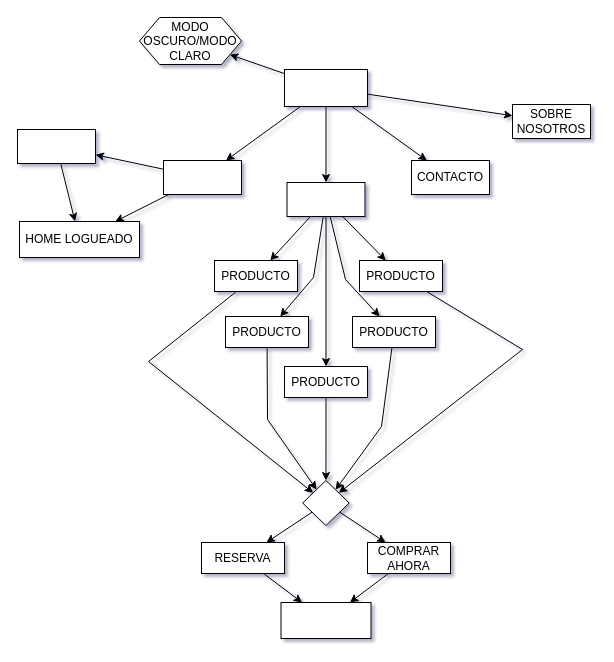
Some shapes in this 614 by 662 pixel diagram are drawn without their labels. The shapes that lost their labels are listed below. From the top down, each one's centre as x and y in pixels, then its label:
At pixel 326 87: "HOME".
At pixel 56 146: "REGISTRO".
At pixel 202 177: "LOGIN".
At pixel 325 199: "BÚSQUEDA".
At pixel 325 620: "PÁGINA DE PAGO".
